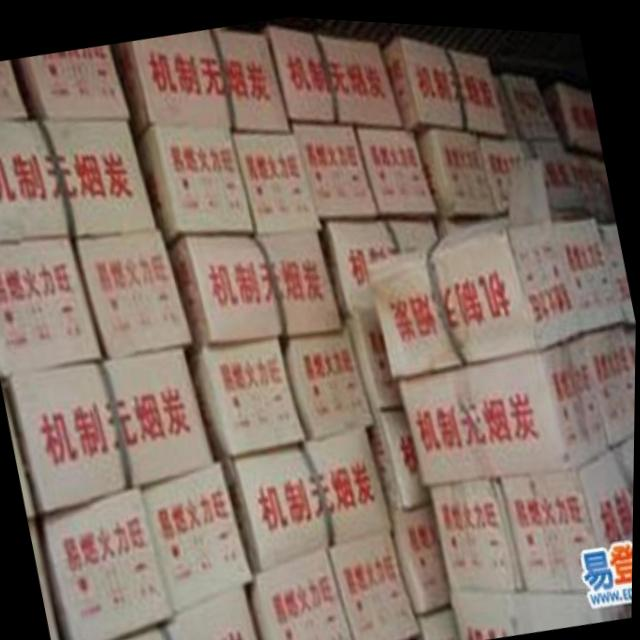box: (367, 210, 626, 375), (400, 318, 636, 482), (3, 344, 217, 518), (222, 422, 394, 569), (168, 228, 344, 352), (500, 428, 635, 588), (109, 26, 291, 141), (45, 485, 177, 640), (0, 118, 158, 241), (138, 460, 257, 613), (71, 225, 194, 358), (0, 236, 105, 377), (134, 124, 256, 241), (189, 335, 309, 450), (266, 24, 404, 123), (317, 210, 439, 312), (382, 32, 508, 130), (428, 473, 527, 590), (329, 524, 424, 640), (246, 546, 356, 640), (283, 331, 378, 434), (418, 121, 524, 211), (452, 585, 633, 637), (234, 130, 322, 229), (291, 117, 378, 214), (18, 43, 130, 118), (120, 583, 262, 640), (390, 498, 453, 610), (366, 403, 434, 506), (358, 124, 438, 209), (342, 303, 403, 408), (545, 76, 604, 151), (494, 68, 559, 134), (532, 134, 586, 202), (599, 215, 636, 314), (566, 148, 613, 199), (416, 602, 465, 640), (0, 61, 29, 119), (625, 321, 637, 367)
